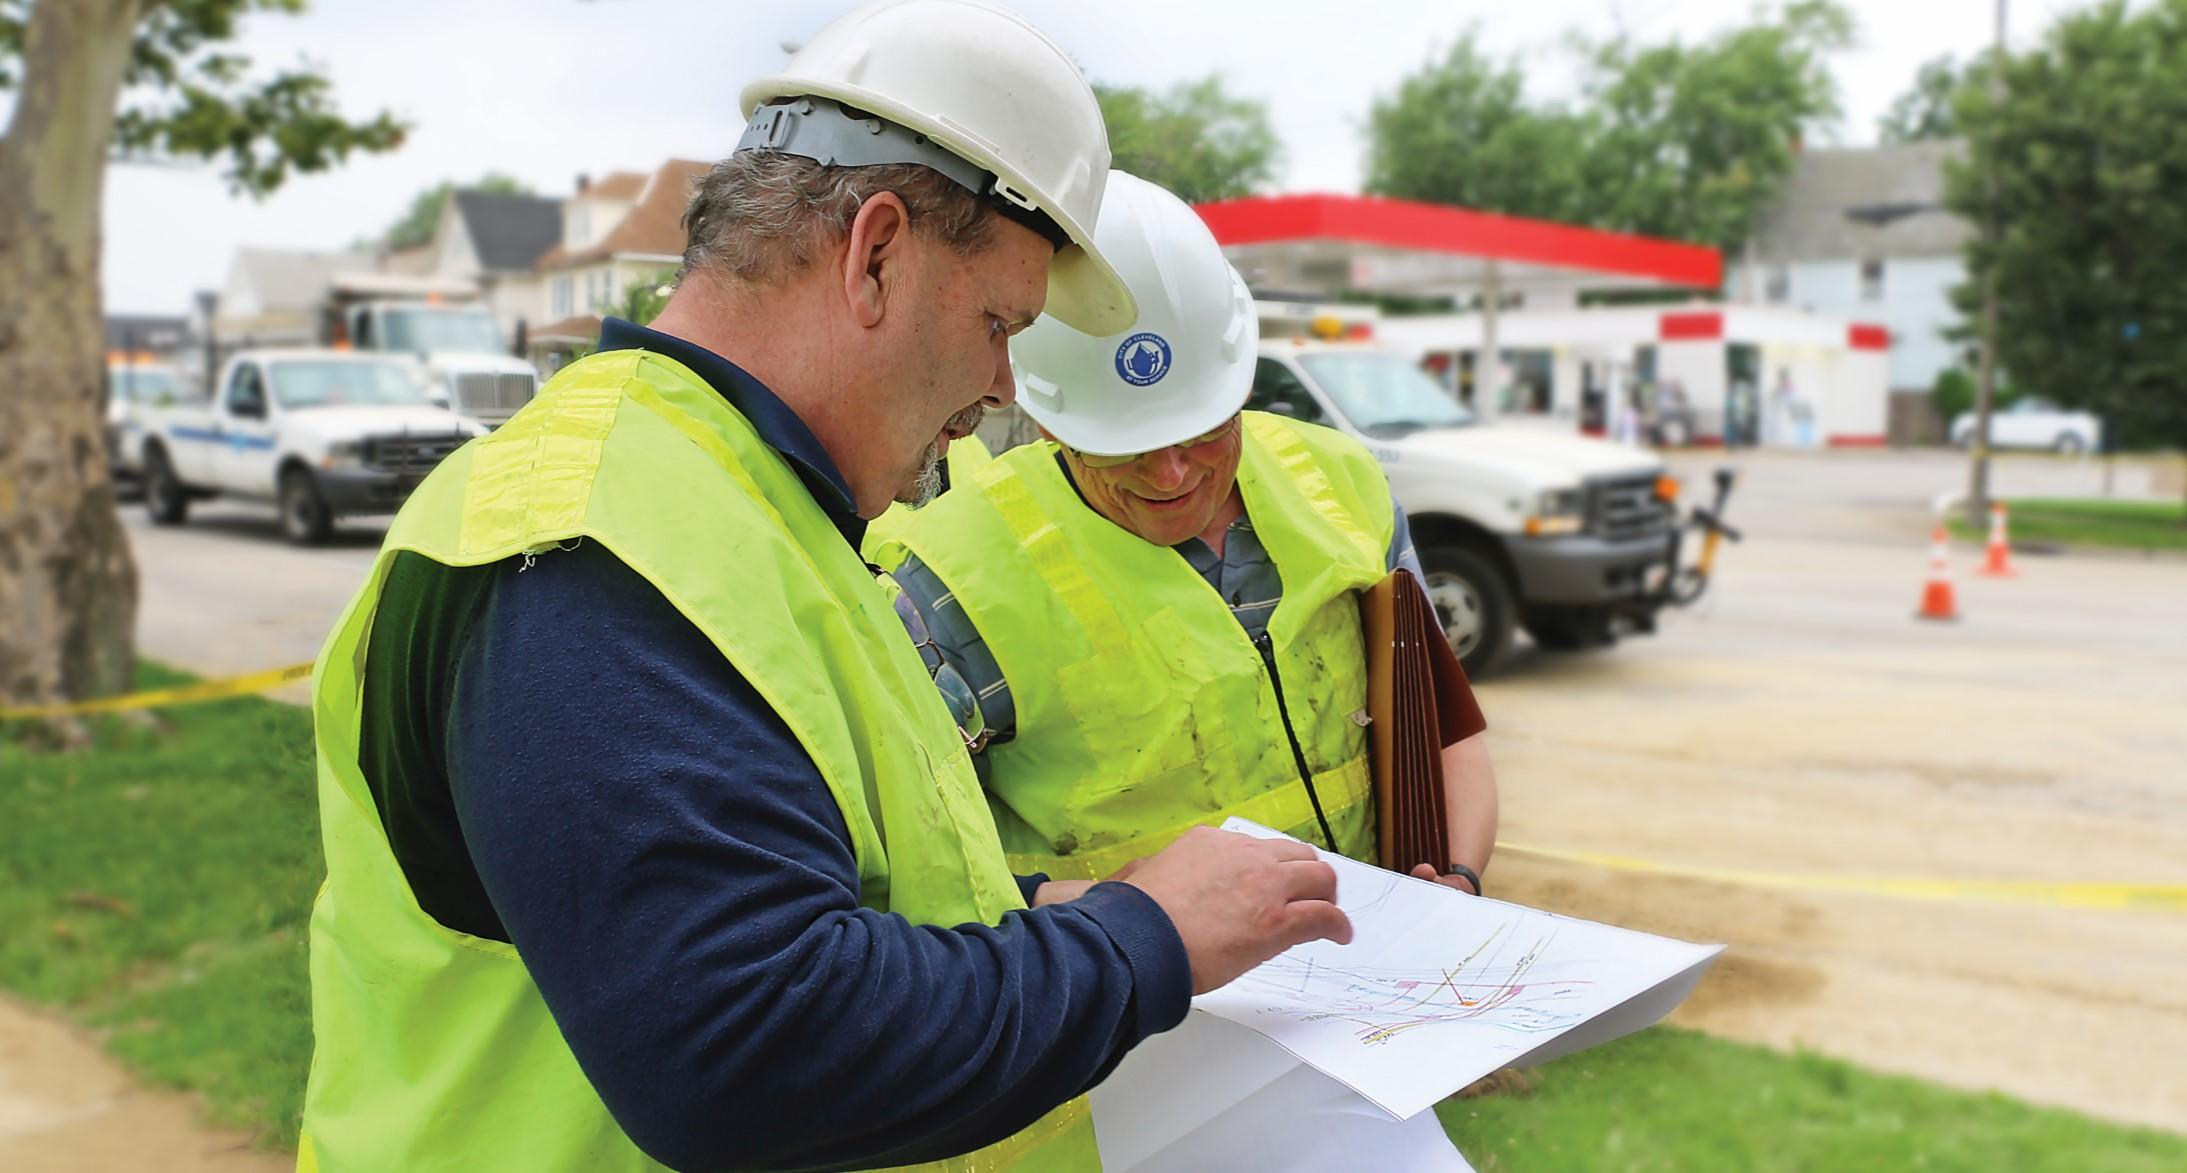helmet: (677, 1, 1140, 295), (1008, 162, 1261, 456)
